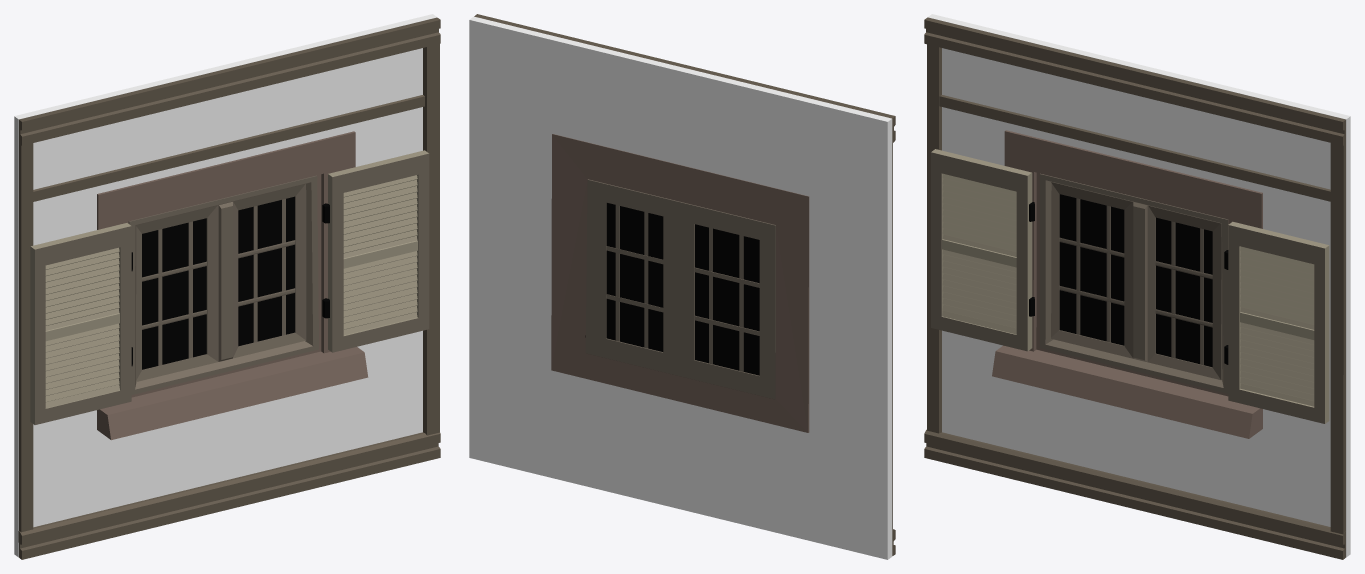
File: WINDOW_06_1.fbx
The picture shows the model from 3 angles, left to right: view 1: azimuth 30°, elevation 25°; view 2: azimuth 150°, elevation 25°; view 3: azimuth 330°, elevation 25°; orthographic projection.
Visible parts, largest first — view 1: WINDOW_06_1; view 2: WINDOW_06_1; view 3: WINDOW_06_1.
Boxes of the visible parts, x1=… form: WINDOW_06_1: x1=14, y1=14, x2=440, y2=559; WINDOW_06_1: x1=469, y1=14, x2=895, y2=559; WINDOW_06_1: x1=924, y1=14, x2=1350, y2=559.
Bounding box in the file's own units: 300 × 300 × 24.38.
